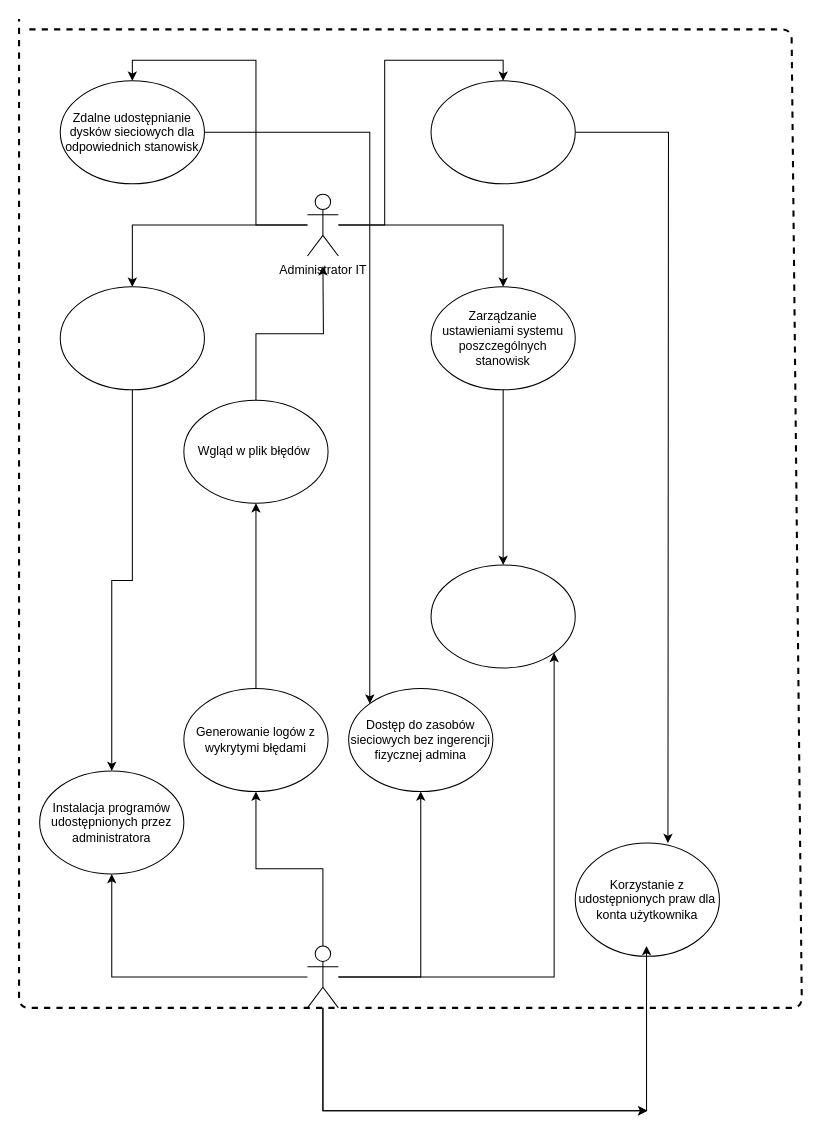
This 821x1137 diagram has some shape labels left out. Each missing label, with the centre of its shape:
Dostęp do najpotrzebniejszych ustawień systemu: point 502,616
Instalacja oprogramowania dla danego stanowiska: point 131,338
Tworzenie kont użytkowników: point 502,132
Użytkownik zalogowany: point 322,976
